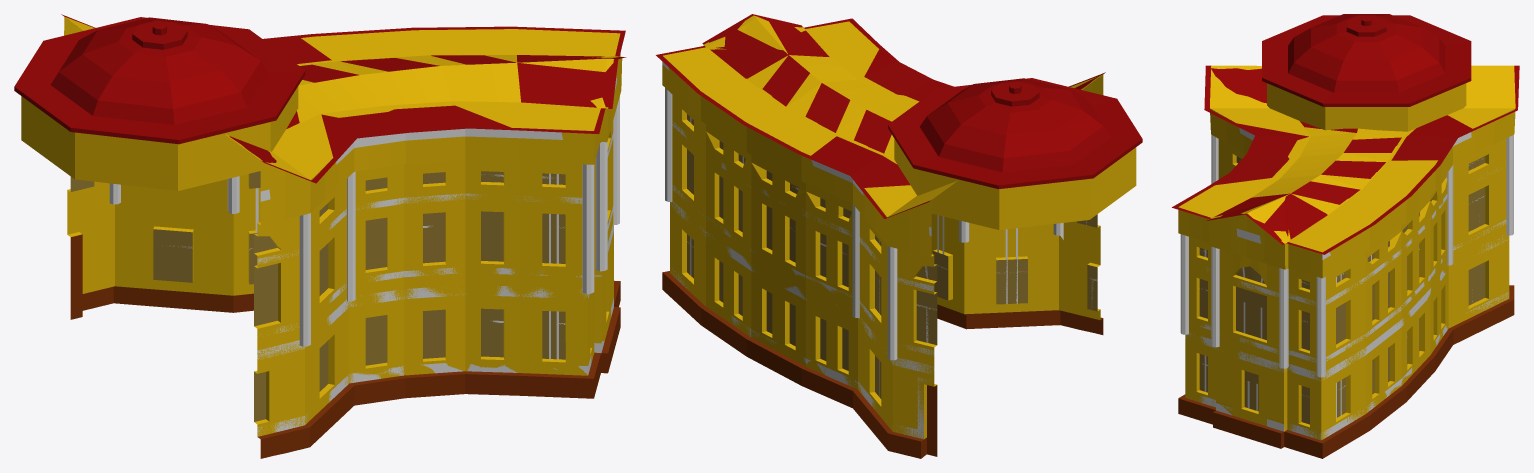
The model's file is newPOLUK.glb.
3 renders of one model, left to right at view 1: azimuth 30°, elevation 25°; view 2: azimuth 150°, elevation 25°; view 3: azimuth 270°, elevation 25°, orthographic. The views are drawn at different scales.
Parts seen in each view (by area): view 1: Цилиндр, Цилиндр.008, Цилиндр.003, Цилиндр.001, Цилиндр.011, Цилиндр.007, Цилиндр.002, Цилиндр.005, Цилиндр.004, Цилиндр.006, Цилиндр.012; view 2: Цилиндр, Цилиндр.008, Цилиндр.003, Цилиндр.001, Цилиндр.011, Цилиндр.005, Цилиндр.002, Цилиндр.012, Цилиндр.004, Цилиндр.006; view 3: Цилиндр, Цилиндр.008, Цилиндр.003, Цилиндр.011, Цилиндр.001, Цилиндр.002, Цилиндр.005, Цилиндр.006, Цилиндр.004, Цилиндр.012, Цилиндр.007.
Part boxes in pixels (left/top/right/bottom): Цилиндр: left=64, top=16, right=622, bottom=458; Цилиндр.008: left=14, top=17, right=305, bottom=144; Цилиндр.003: left=61, top=14, right=626, bottom=183; Цилиндр.001: left=21, top=86, right=298, bottom=190; Цилиндр.011: left=109, top=96, right=619, bottom=346; Цилиндр.007: left=260, top=75, right=616, bottom=201; Цилиндр.002: left=257, top=224, right=613, bottom=359; Цилиндр.005: left=257, top=298, right=613, bottom=437; Цилиндр.004: left=257, top=132, right=613, bottom=264; Цилиндр.006: left=260, top=206, right=613, bottom=334; Цилиндр.012: left=255, top=173, right=558, bottom=359; Цилиндр: left=662, top=15, right=1103, bottom=458; Цилиндр.008: left=888, top=78, right=1142, bottom=189; Цилиндр.003: left=656, top=14, right=1105, bottom=218; Цилиндр.001: left=894, top=139, right=1136, bottom=229; Цилиндр.011: left=665, top=88, right=1063, bottom=360; Цилиндр.005: left=670, top=268, right=930, bottom=439; Цилиндр.002: left=670, top=201, right=934, bottom=373; Цилиндр.012: left=690, top=117, right=1093, bottom=396; Цилиндр.004: left=672, top=121, right=934, bottom=291; Цилиндр.006: left=672, top=185, right=934, bottom=355; Цилиндр: left=1178, top=65, right=1515, bottom=458; Цилиндр.008: left=1262, top=14, right=1471, bottom=106; Цилиндр.003: left=1172, top=65, right=1519, bottom=254; Цилиндр.011: left=1180, top=135, right=1513, bottom=377; Цилиндр.001: left=1267, top=83, right=1466, bottom=131; Цилиндр.002: left=1185, top=234, right=1508, bottom=381; Цилиндр.005: left=1199, top=292, right=1509, bottom=439; Цилиндр.006: left=1200, top=220, right=1506, bottom=362; Цилиндр.004: left=1206, top=169, right=1498, bottom=306; Цилиндр.012: left=1204, top=226, right=1479, bottom=418; Цилиндр.007: left=1236, top=111, right=1508, bottom=259.
Bounding box in the file's own units: 2.91 × 1.8 × 2.05.
